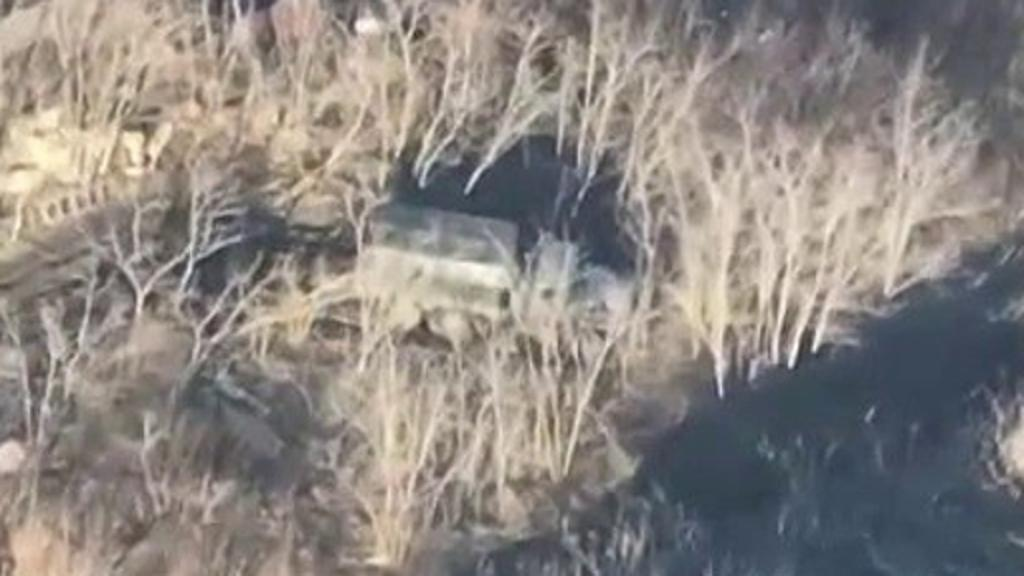TRUCK: (354, 192, 634, 356)
